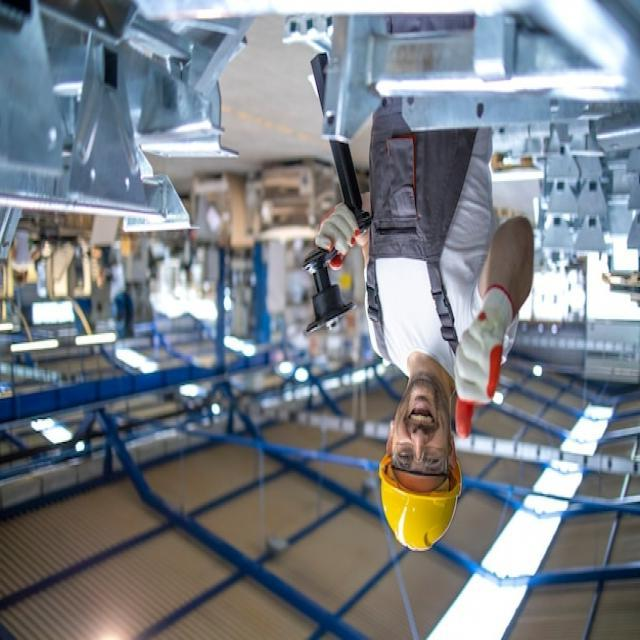safetyhelmet: (369, 421, 460, 553)
